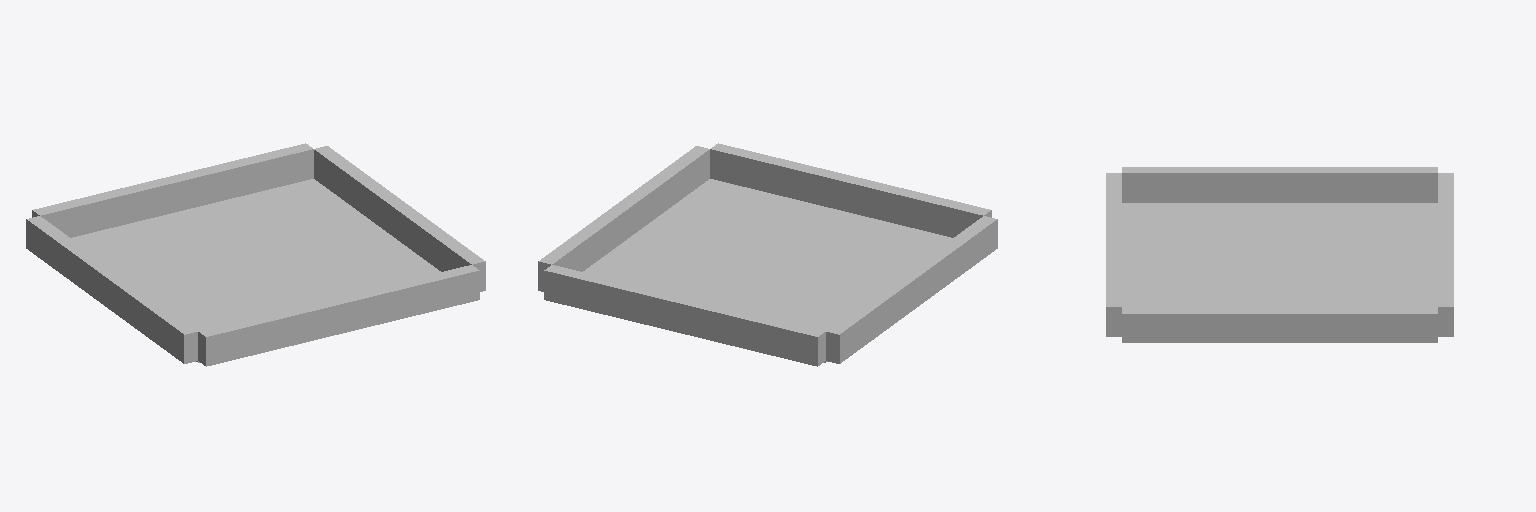
File: Map.obj
3 renders of one model, left to right at view 1: azimuth 30°, elevation 25°; view 2: azimuth 150°, elevation 25°; view 3: azimuth 270°, elevation 25°, orthographic.
Visible parts, largest first — view 1: Floar, Wall4, Wall3, Wall1, Wall2; view 2: Floar, Wall3, Wall4, Wall1, Wall2; view 3: Floar, Wall1, Wall2, Wall3, Wall4.
Boxes of the visible parts, x1=… form: Floar: x1=71, y1=179, x2=440, y2=362; Wall4: x1=198, y1=265, x2=479, y2=366; Wall3: x1=32, y1=143, x2=313, y2=237; Wall1: x1=26, y1=216, x2=197, y2=363; Wall2: x1=314, y1=146, x2=485, y2=291; Floar: x1=583, y1=179, x2=952, y2=362; Wall3: x1=544, y1=265, x2=825, y2=366; Wall4: x1=710, y1=143, x2=991, y2=237; Wall1: x1=826, y1=216, x2=997, y2=363; Wall2: x1=538, y1=146, x2=709, y2=291; Floar: x1=1122, y1=203, x2=1437, y2=306; Wall1: x1=1122, y1=167, x2=1437, y2=202; Wall2: x1=1122, y1=307, x2=1437, y2=342; Wall3: x1=1438, y1=173, x2=1453, y2=336; Wall4: x1=1106, y1=173, x2=1121, y2=336.
Bounding box in the file's own units: 33 × 3.3 × 33.